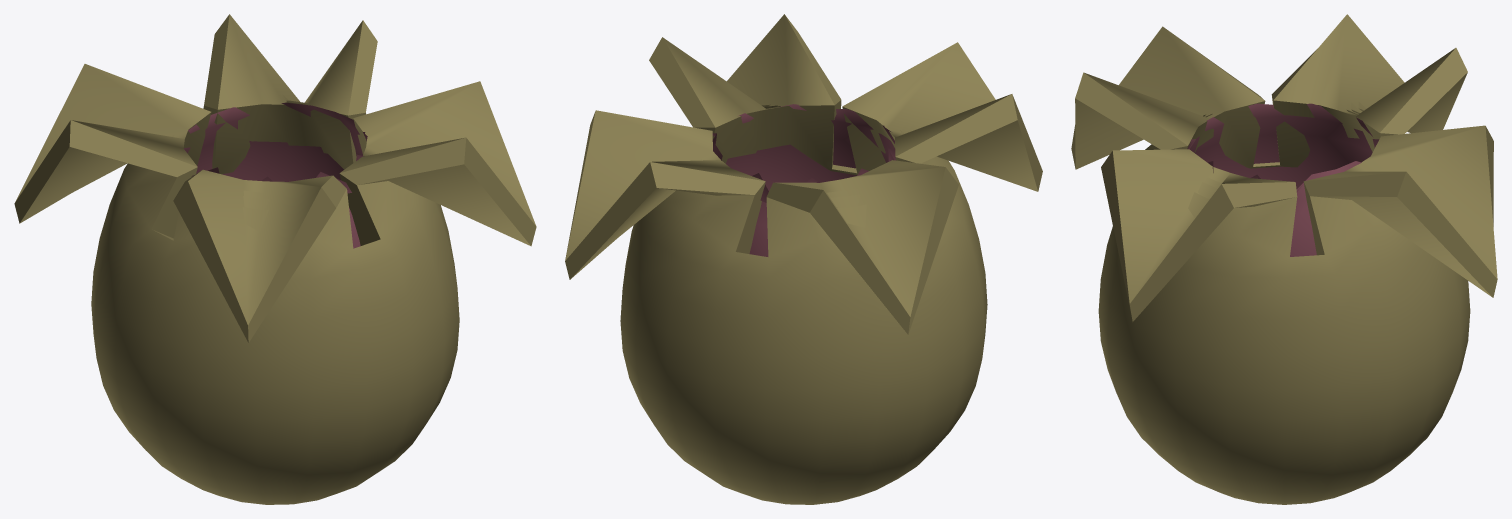
Rendered from Alien Egg Open.fbx.
3 renders of one model, left to right at view 1: azimuth 30°, elevation 25°; view 2: azimuth 150°, elevation 25°; view 3: azimuth 270°, elevation 25°, orthographic.
Visible parts, largest first — view 1: openegg3; view 2: openegg3; view 3: openegg3.
Part boxes in pixels (bbox=[...]): openegg3: bbox=[14, 14, 536, 504]; openegg3: bbox=[565, 14, 1042, 504]; openegg3: bbox=[1071, 14, 1497, 504].
Size of the model in its own units: 5.13 by 5.16 by 5.13.
